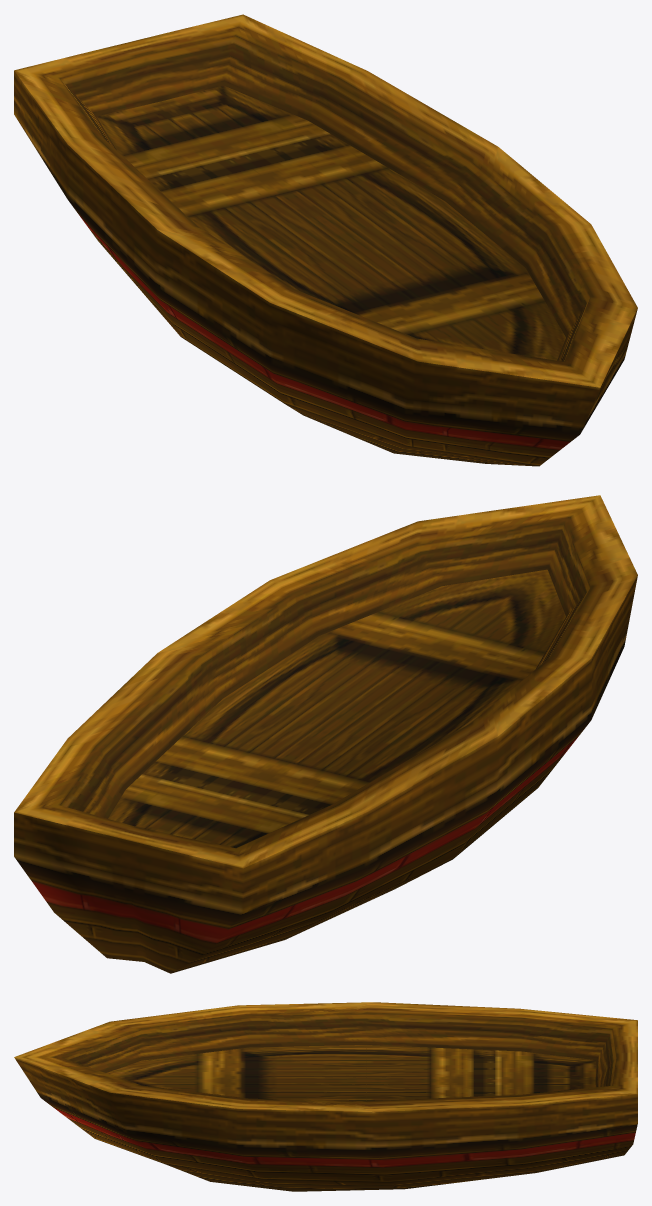
File: INST_LT_BOAT.fbx
The picture shows the model from 3 angles, top to bottom: view 1: azimuth 30°, elevation 25°; view 2: azimuth 150°, elevation 25°; view 3: azimuth 270°, elevation 25°; orthographic projection. The views are drawn at different scales.
Visible parts, largest first — view 1: INST_LT_BOAT; view 2: INST_LT_BOAT; view 3: INST_LT_BOAT.
Part boxes in pixels (left/top/right/bottom): INST_LT_BOAT: left=14, top=14, right=637, bottom=466; INST_LT_BOAT: left=14, top=495, right=637, bottom=973; INST_LT_BOAT: left=14, top=1002, right=637, bottom=1191.
Size of the model in its own units: 11756 by 5950 by 28179.
2 materials, 2 textured.
